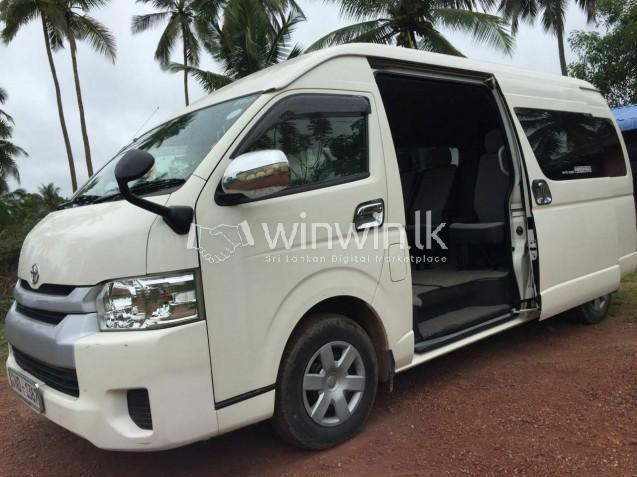car: (40, 40, 628, 439)
